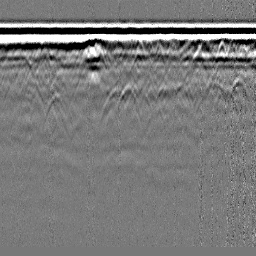cavity: (118, 82, 140, 111)
